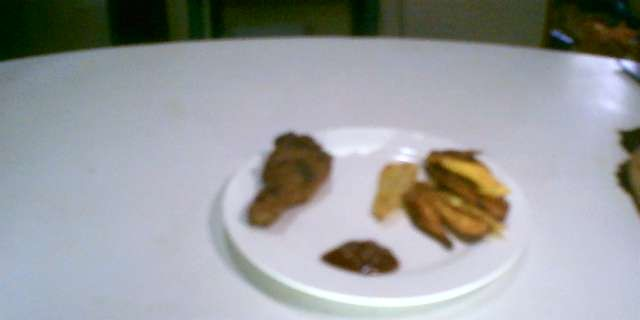chicken: (244, 130, 333, 229)
ketchup_portion: (317, 237, 400, 277)
potatoe_fries: (370, 133, 514, 250)
